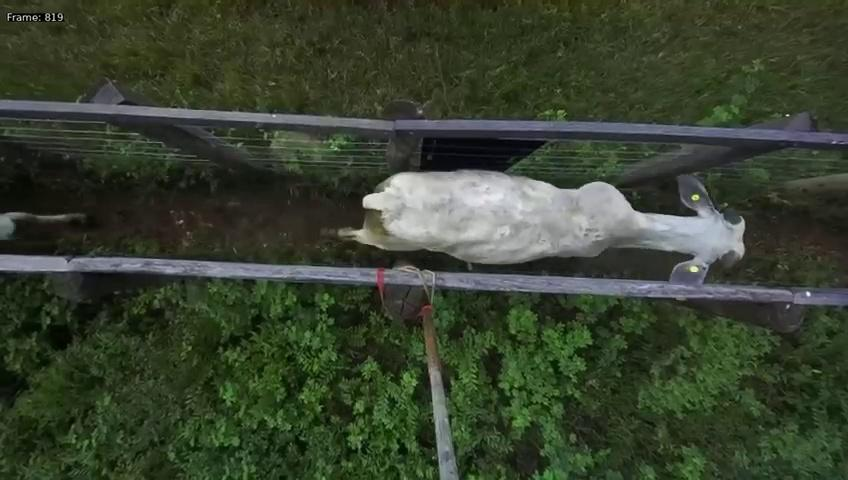cattle: (323, 148, 761, 298)
